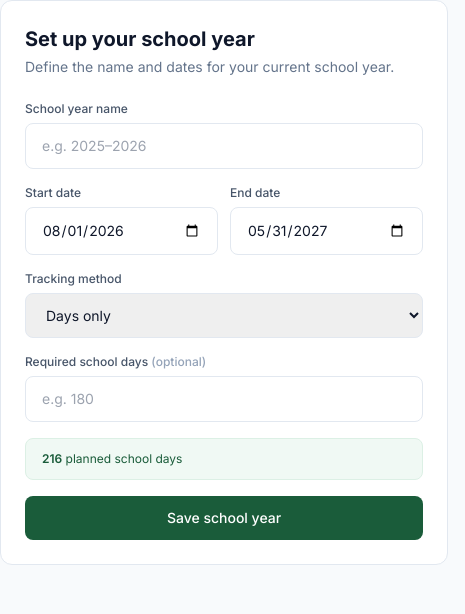
Test: UAT 5.2 — saving the school year form when the server refuses › shows "Learners are not allowed to make this change." instead of "Something went wrong"
Type "2026–2027" into the field labelled "School year name" at (224, 146), box [25,123,423,169]
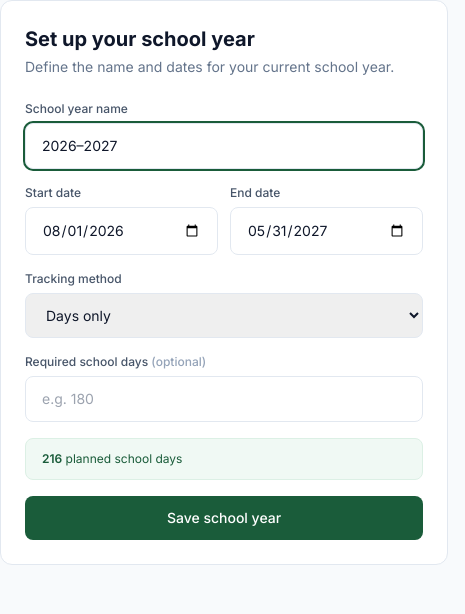
Click the button "Save school year" at (224, 518), box [25,496,423,540]
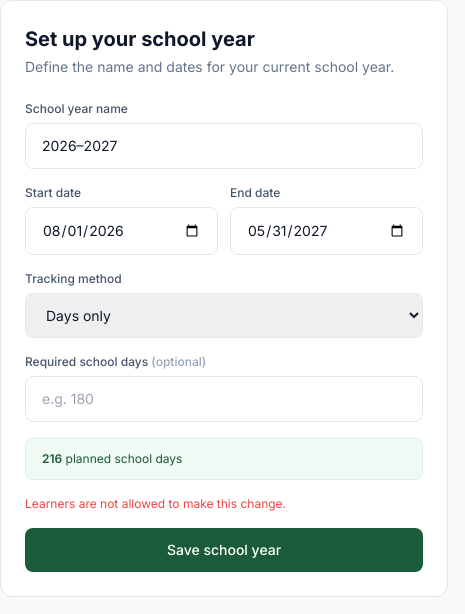
Expected: the text "Learners are not allowed to make this change." is shown, [25,496,286,511]
